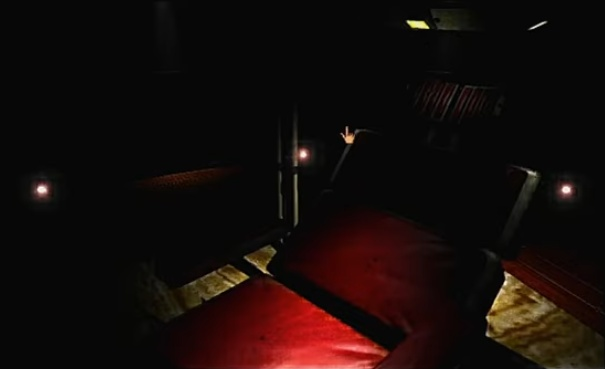Pointer: (336, 120, 361, 147)
